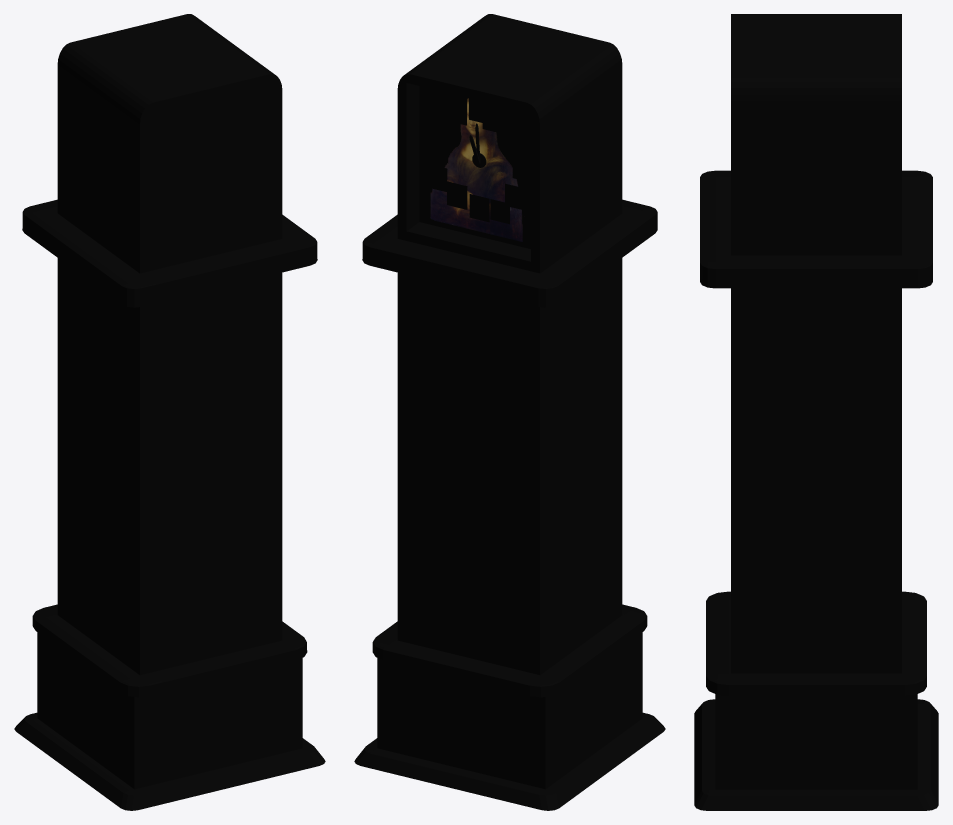
Rendered from dedeSaati.fbx.
The picture shows the model from 3 angles, left to right: view 1: azimuth 30°, elevation 25°; view 2: azimuth 150°, elevation 25°; view 3: azimuth 270°, elevation 25°; orthographic projection. The views are drawn at different scales.
Parts seen in each view (by area): view 1: Cube.002; view 2: Cube.002; view 3: Cube.002.
Part boxes in pixels (x1,y1,x2,y2): Cube.002: [14, 14, 325, 810]; Cube.002: [354, 14, 665, 810]; Cube.002: [694, 14, 938, 810].
Bounding box in the file's own units: 306 × 987 × 306.
Materials: 2 (2 with a texture image).
